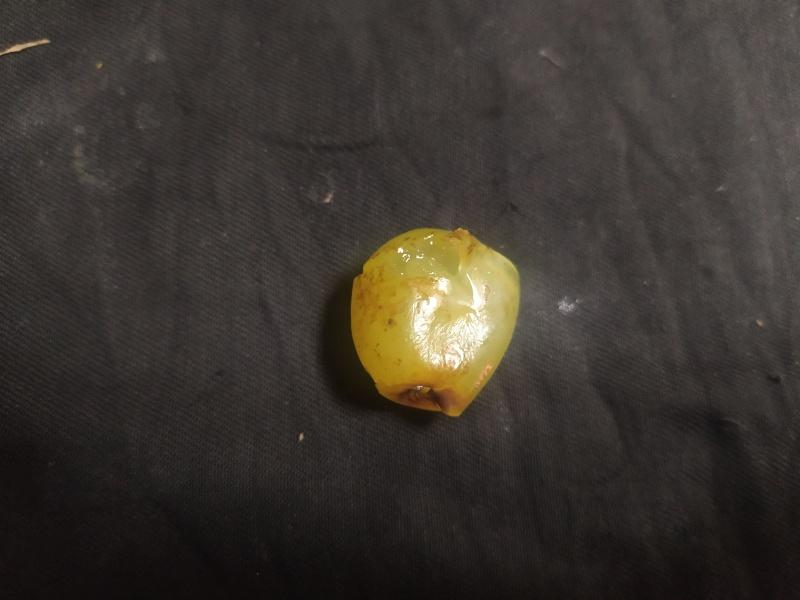Grape Overripe: (348, 224, 524, 420)
